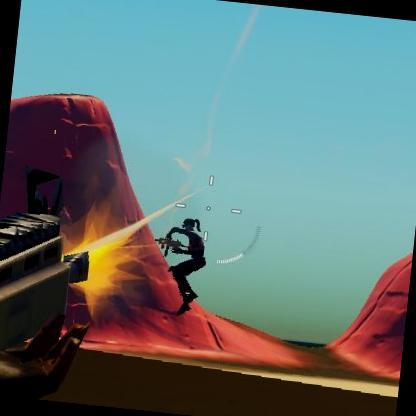person: (161, 218, 208, 319)
